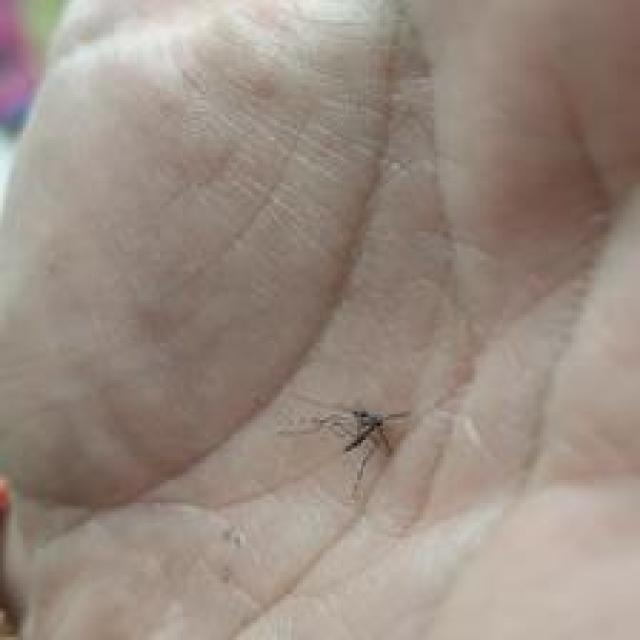Aedes albopictus: (278, 403, 413, 491)
